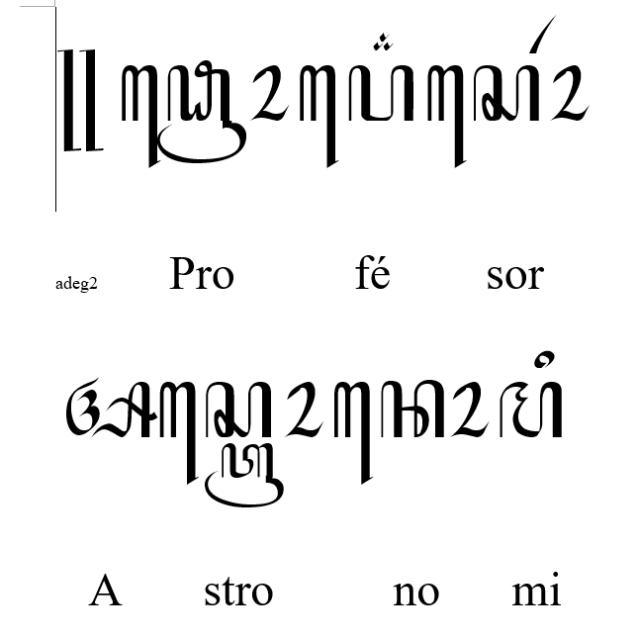A: (65, 376, 158, 438)
Pr: (157, 59, 247, 165)
_r1: (530, 14, 556, 54)
adeg2: (56, 48, 104, 152)
alt: (372, 31, 394, 51)
e1: (121, 64, 161, 170), (298, 63, 338, 169), (159, 381, 199, 487), (427, 64, 467, 168), (334, 380, 374, 484)
i: (532, 349, 554, 369)
m: (499, 380, 563, 438)
n: (381, 379, 446, 439)
o: (548, 64, 590, 122), (284, 380, 324, 440), (250, 63, 288, 121), (450, 381, 489, 437)
p: (348, 64, 414, 122)
s: (204, 379, 272, 439), (473, 64, 541, 122)
tr: (204, 442, 284, 508)
